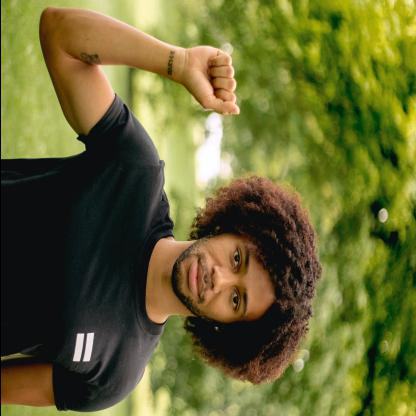Eye: (229, 244, 241, 270), (227, 287, 239, 311)
Mouth: (186, 257, 205, 300)
Nose: (210, 265, 236, 293)
